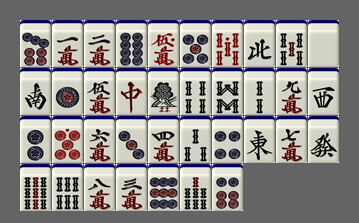0m: (148, 20, 179, 67)
0p: (52, 116, 83, 163)
0s: (212, 20, 243, 67)
1m: (52, 20, 83, 67)
1p: (52, 68, 83, 115)
1s: (148, 68, 179, 115)
1z: (244, 116, 275, 163)
2m: (84, 20, 115, 67)
2p: (20, 116, 51, 163)
2s: (244, 68, 275, 115)
2z: (20, 68, 51, 115)
3m: (116, 164, 147, 211)
3p: (116, 116, 147, 163)
3s: (180, 116, 211, 163)
3z: (308, 68, 339, 115)
4m: (148, 116, 179, 163)
4p: (212, 116, 243, 163)
4s: (180, 68, 211, 115)
4z: (244, 20, 275, 67)
5m: (84, 68, 115, 115)
5p: (180, 20, 211, 67)
5s: (276, 20, 307, 67)
5z: (308, 20, 339, 67)
6m: (84, 116, 115, 163)
6p: (212, 164, 243, 211)
6s: (52, 164, 83, 211)
6z: (308, 116, 339, 163)
7m: (276, 116, 307, 163)
7p: (20, 20, 51, 67)
7s: (180, 164, 211, 211)
7z: (116, 68, 147, 115)
8m: (84, 164, 115, 211)
8p: (116, 20, 147, 67)
8s: (212, 68, 243, 115)
9m: (276, 68, 307, 115)
9p: (148, 164, 179, 211)
9s: (20, 164, 51, 211)
